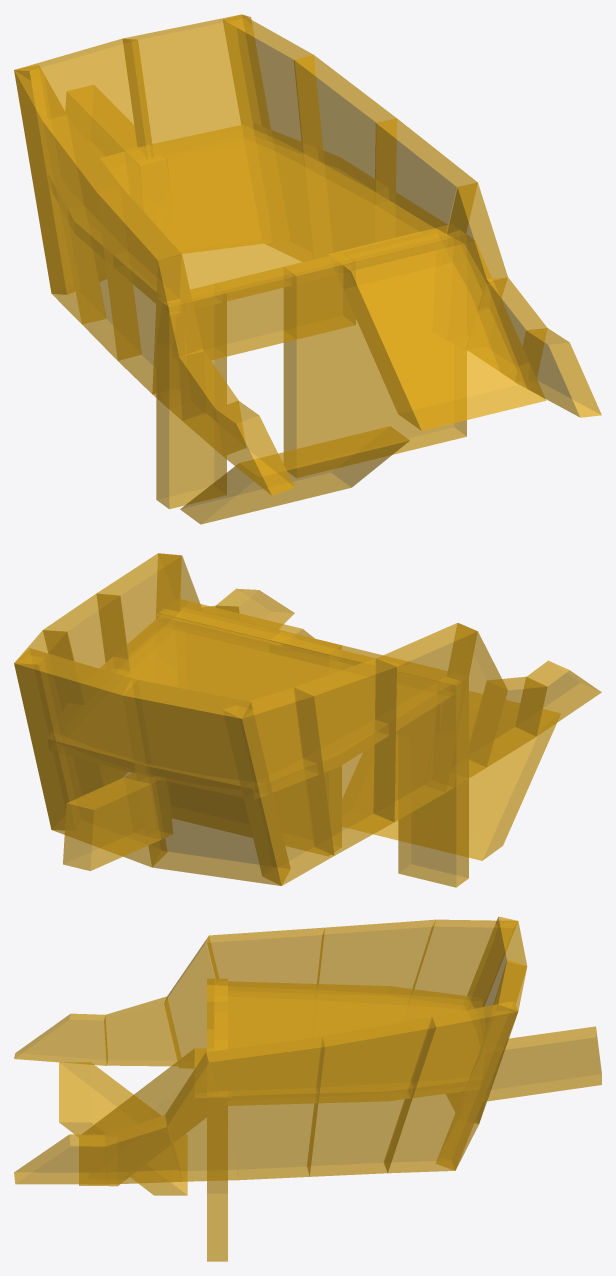
File: SM_Veh_Ship_S_Back_03_Collision.fbx
3 renders of one model, top to bottom at view 1: azimuth 30°, elevation 25°; view 2: azimuth 150°, elevation 25°; view 3: azimuth 270°, elevation 25°, orthographic. The views are drawn at different scales.
Visible parts, largest first — view 1: SM_Veh_Ship_S_Back_03_Collision; view 2: SM_Veh_Ship_S_Back_03_Collision; view 3: SM_Veh_Ship_S_Back_03_Collision.
Part boxes in pixels (<box>): SM_Veh_Ship_S_Back_03_Collision: <box>14,14,601,524</box>; SM_Veh_Ship_S_Back_03_Collision: <box>14,553,601,887</box>; SM_Veh_Ship_S_Back_03_Collision: <box>14,916,601,1261</box>.
Size of the model in its own units: 534 by 455 by 1001.
